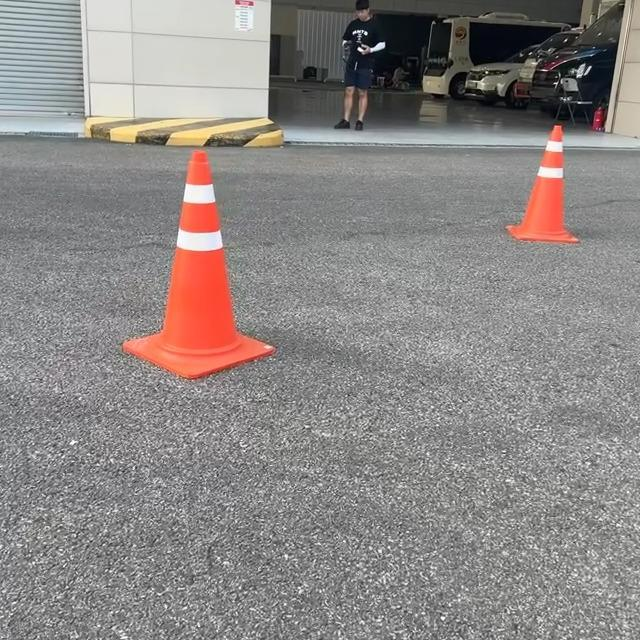fallen_object: (93, 116, 316, 394), (475, 97, 589, 260)
